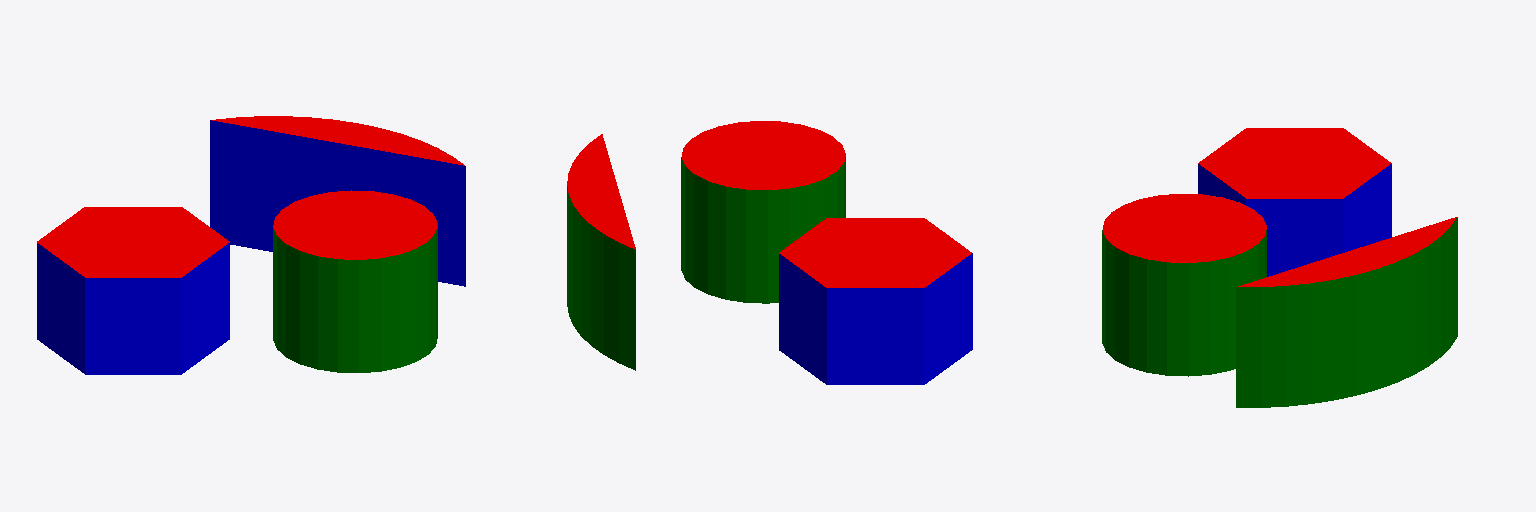
The model's file is meshesobj.obj.
The picture shows the model from 3 angles: view 1: azimuth 30°, elevation 25°; view 2: azimuth 150°, elevation 25°; view 3: azimuth 270°, elevation 25°; orthographic projection.
Visible parts, largest first — view 1: Mesh3 Model, Mesh1 Model, Mesh2 Model; view 2: Mesh3 Model, Mesh1 Model, Mesh2 Model; view 3: Mesh2 Model, Mesh1 Model, Mesh3 Model.
Boxes of the visible parts, x1,y1,x2,y2 form: Mesh3 Model: [37, 207, 229, 374]; Mesh1 Model: [273, 190, 437, 372]; Mesh2 Model: [210, 116, 465, 286]; Mesh3 Model: [779, 218, 972, 384]; Mesh1 Model: [681, 121, 845, 303]; Mesh2 Model: [567, 134, 635, 370]; Mesh2 Model: [1236, 217, 1457, 407]; Mesh1 Model: [1102, 194, 1266, 376]; Mesh3 Model: [1198, 128, 1391, 276].
Bounding box in the file's own units: 16.78 × 5.16 × 13.75.